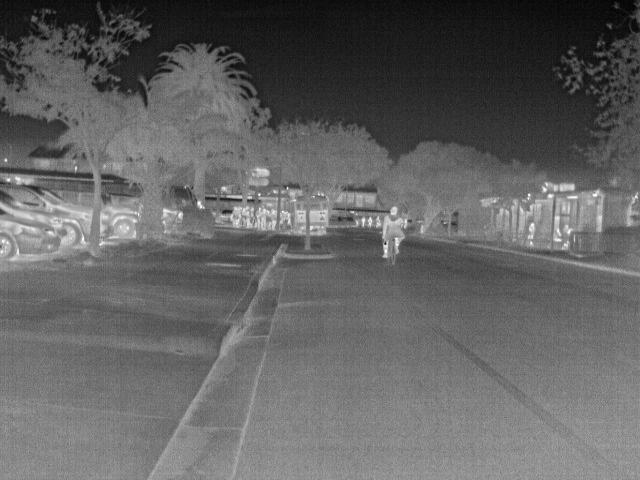car: (24, 185, 95, 242), (1, 204, 83, 252), (1, 210, 60, 262), (103, 204, 139, 242), (160, 206, 187, 234), (219, 208, 235, 224)
person: (378, 207, 404, 263), (524, 222, 536, 248), (551, 226, 564, 243), (195, 198, 208, 209), (361, 214, 368, 228), (367, 214, 374, 226)
